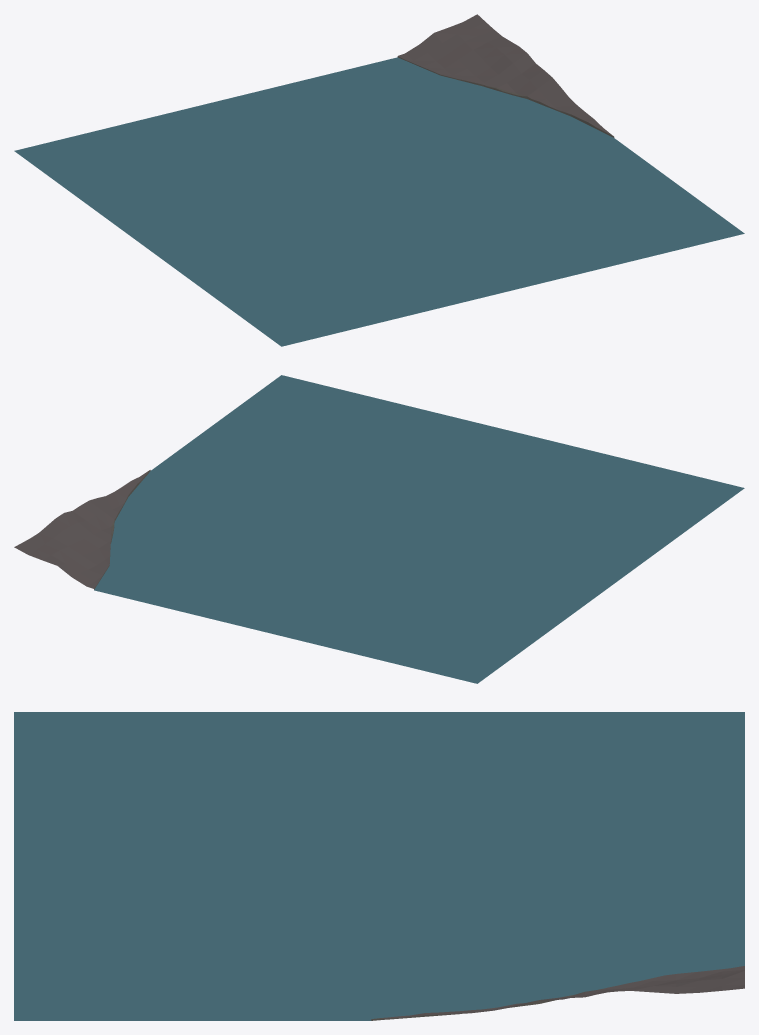
3 views of the same model, one above another, from view 1: azimuth 30°, elevation 25°; view 2: azimuth 150°, elevation 25°; view 3: azimuth 270°, elevation 25° (orthographic). The views are drawn at different scales.
Parts seen in each view (by area): view 1: c_m08_m11; view 2: c_m08_m11; view 3: c_m08_m11.
Boxes of the visible parts, x1,y1,x2,y2 form: c_m08_m11: (14,14,744,346); c_m08_m11: (14,375,744,683); c_m08_m11: (14,712,744,1020).
Bounding box in the file's own units: 128 × 6.24 × 128.
